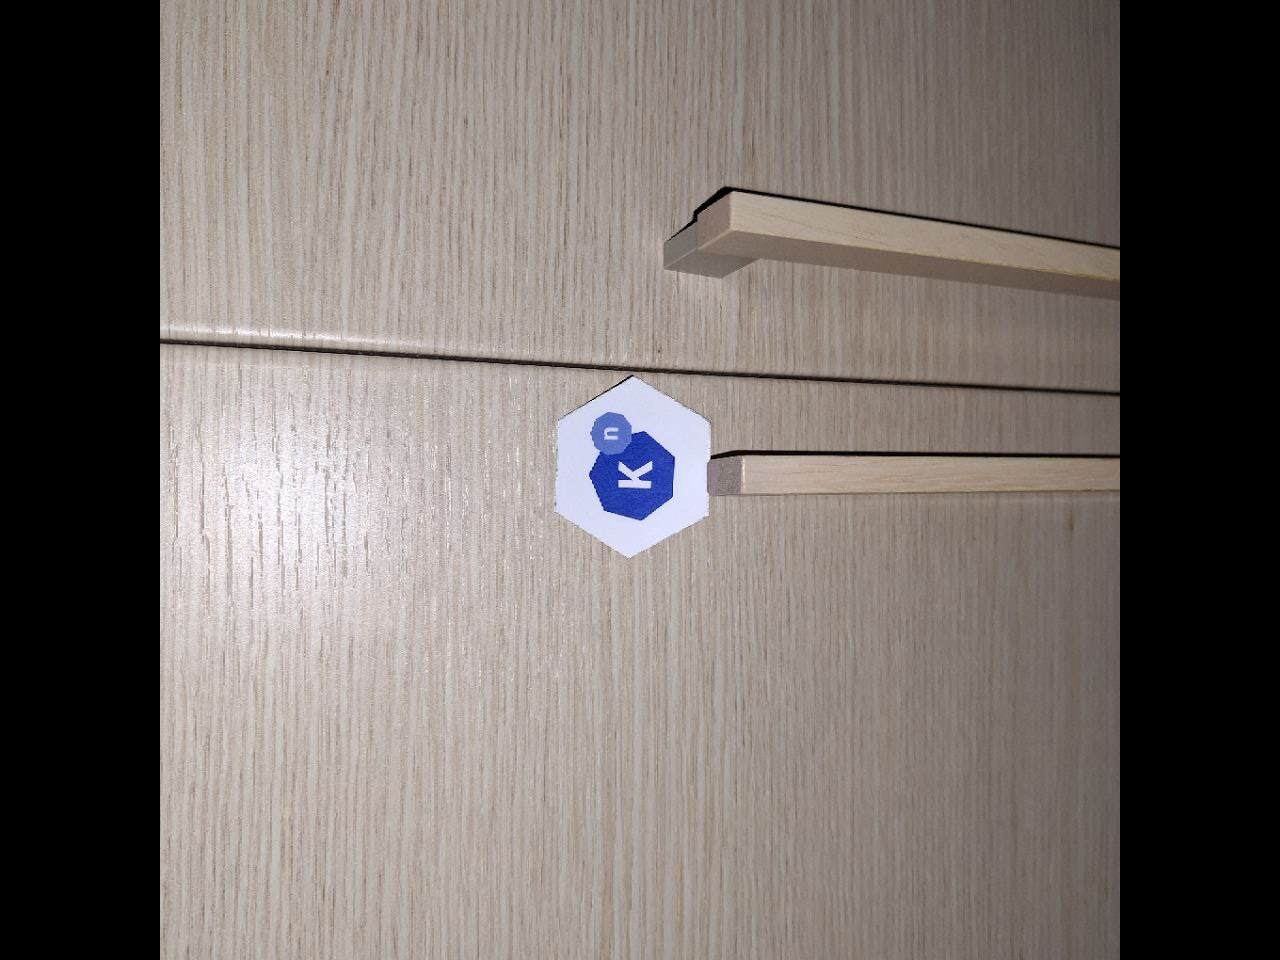knative: (589, 414, 676, 517)
